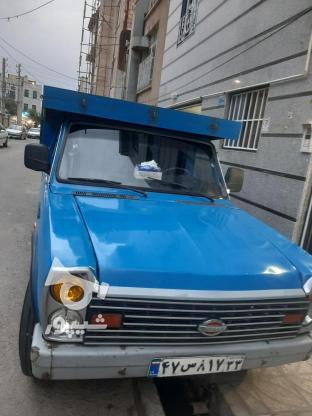car: (149, 356, 245, 381)
